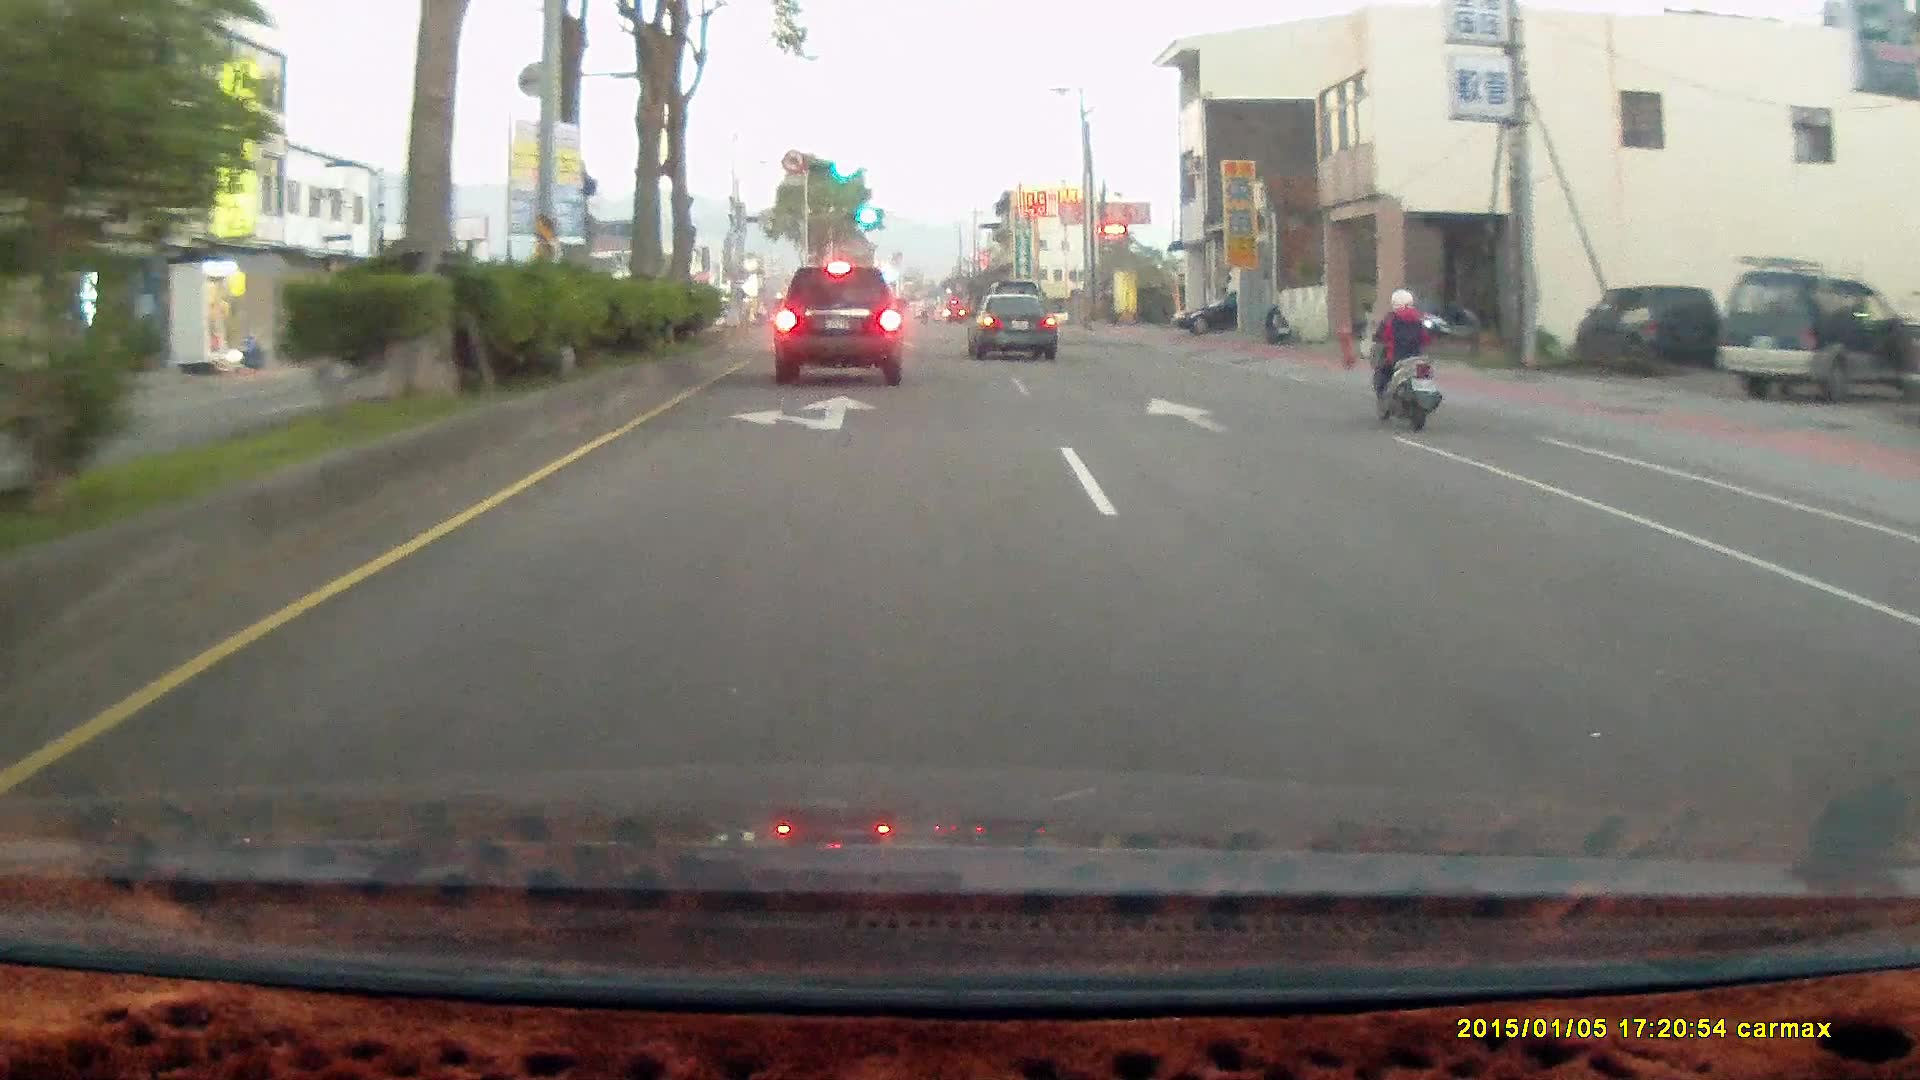rider: (1354, 277, 1456, 440), (1363, 284, 1442, 429)
vehicle: (1714, 270, 1915, 403), (1724, 272, 1891, 401), (770, 257, 910, 382), (774, 265, 907, 386), (1575, 282, 1720, 374), (1575, 283, 1719, 372), (965, 293, 1061, 361), (967, 291, 1055, 356), (1172, 290, 1283, 336), (1172, 289, 1241, 338)
